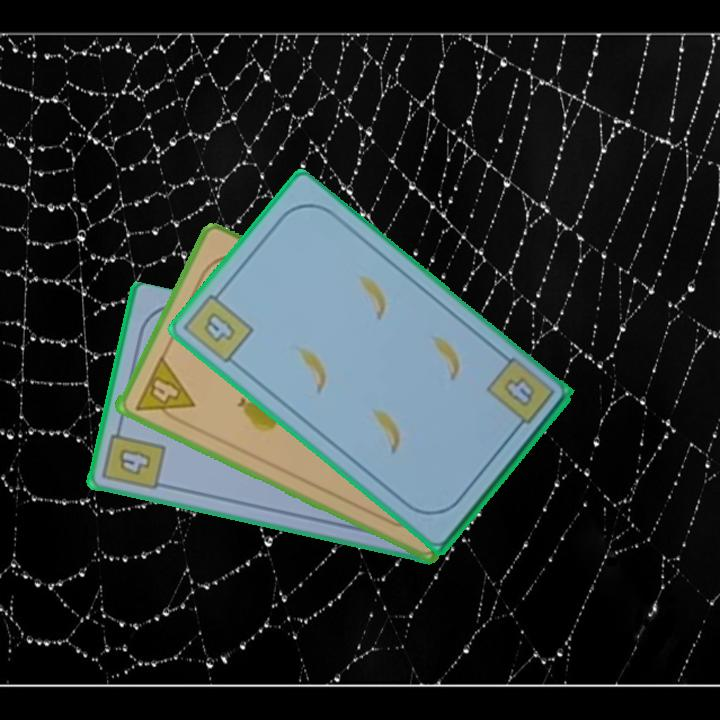4b: (180, 284, 257, 367), (99, 421, 168, 494), (499, 373, 538, 410)
4p: (131, 352, 197, 428)
